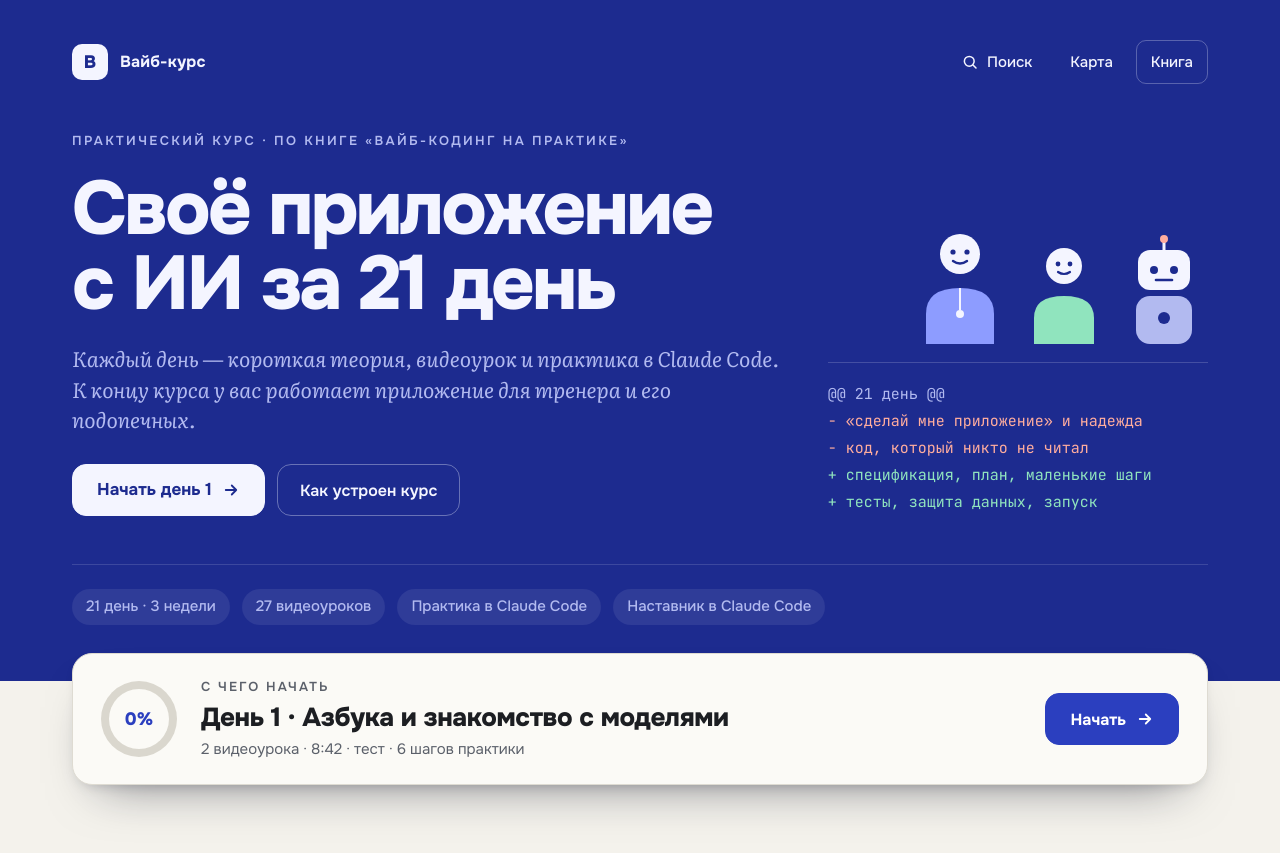
окно поиска: выдача › ничего не нашлось — подсказка вместо групп
Click the button "Поиск" at (997, 62), box x1=946 y1=40 x2=1047 y2=84
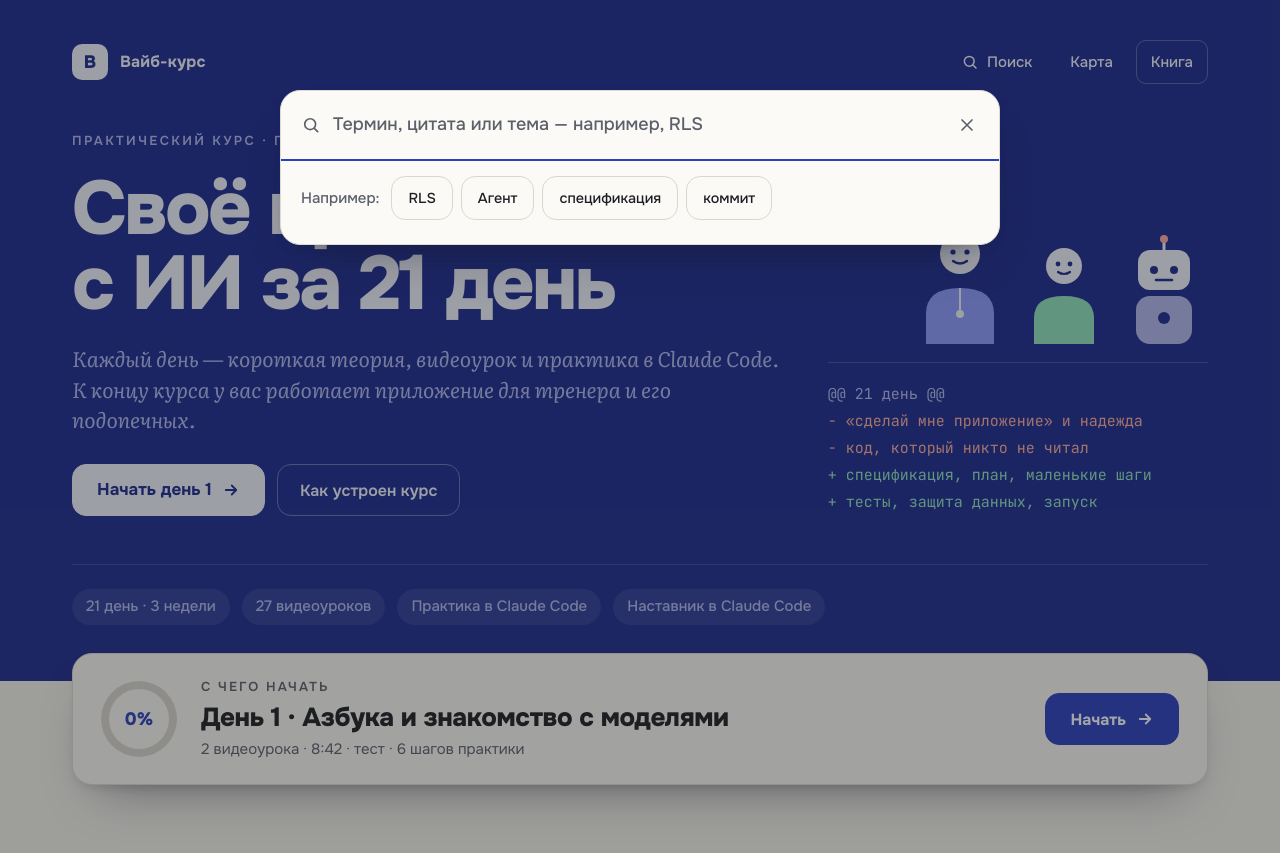
Type "щщщщ" into the search field named "Поиск по курсу и книге" at (633, 125), box x1=329 y1=101 x2=937 y2=149
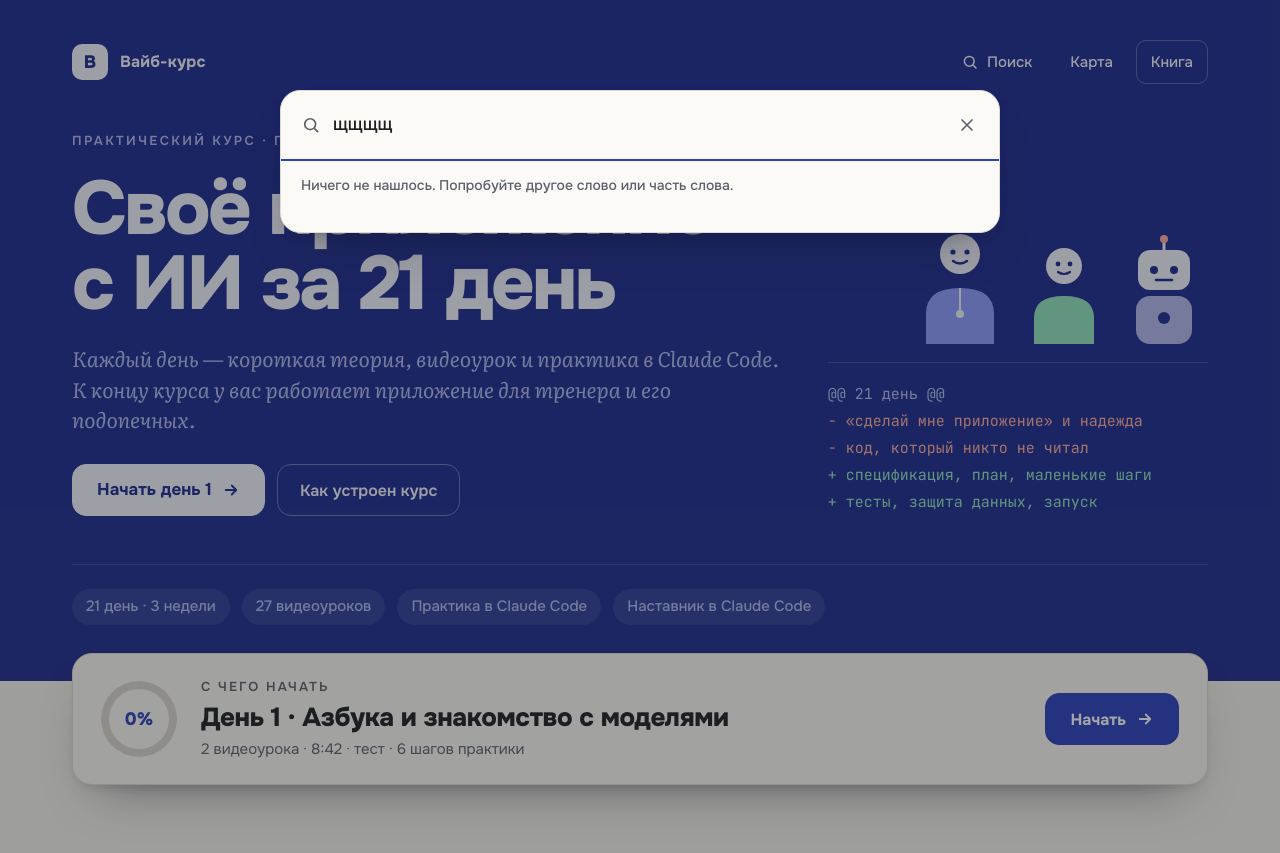
Now the text "Ничего не нашлось. Попробуйте другое слово или часть слова." is shown, box x1=301 y1=176 x2=734 y2=194
